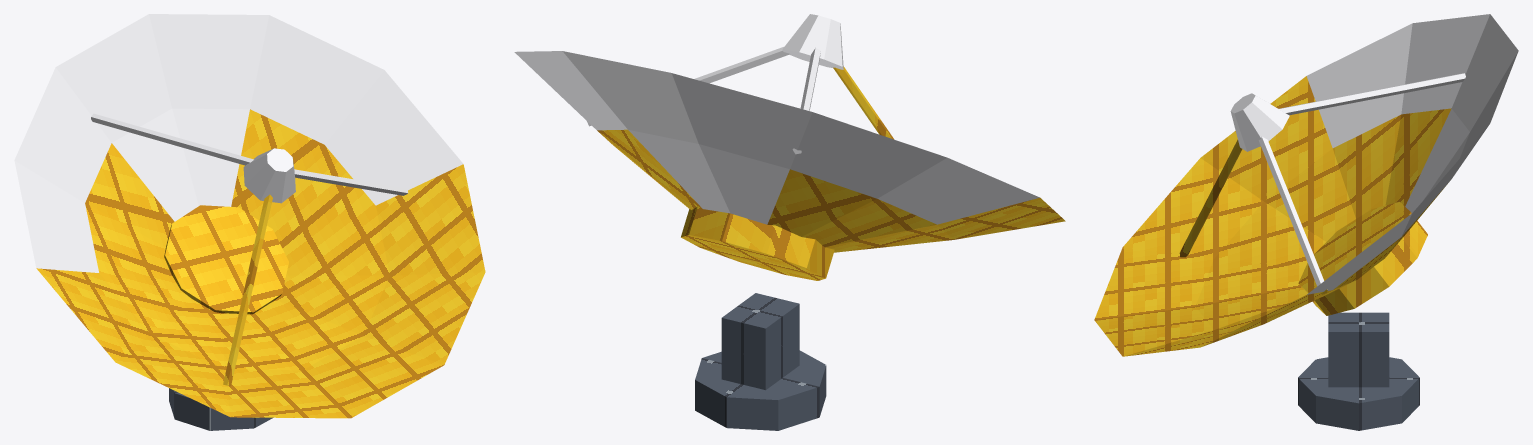
Rendered from ant_dish.glb.
The picture shows the model from 3 angles, left to right: view 1: azimuth 30°, elevation 25°; view 2: azimuth 150°, elevation 25°; view 3: azimuth 270°, elevation 25°; orthographic projection. The views are drawn at different scales.
Parts seen in each view (by area): view 1: ant_dish; view 2: ant_dish; view 3: ant_dish.
Boxes of the visible parts, bbox=[...] form: ant_dish: bbox=[14, 14, 485, 430]; ant_dish: bbox=[514, 14, 1065, 430]; ant_dish: bbox=[1094, 14, 1518, 430].
Bounding box in the file's own units: 0.68 × 0.5133 × 0.557.
Materials: 3 (2 with a texture image).
